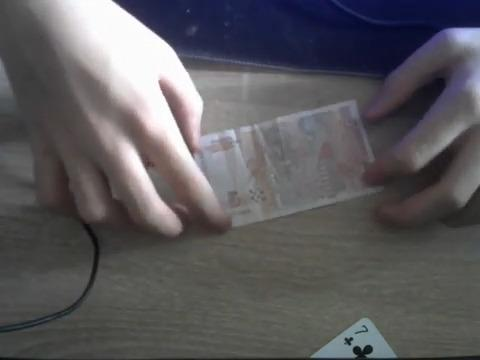5leva: (197, 100, 379, 229)
